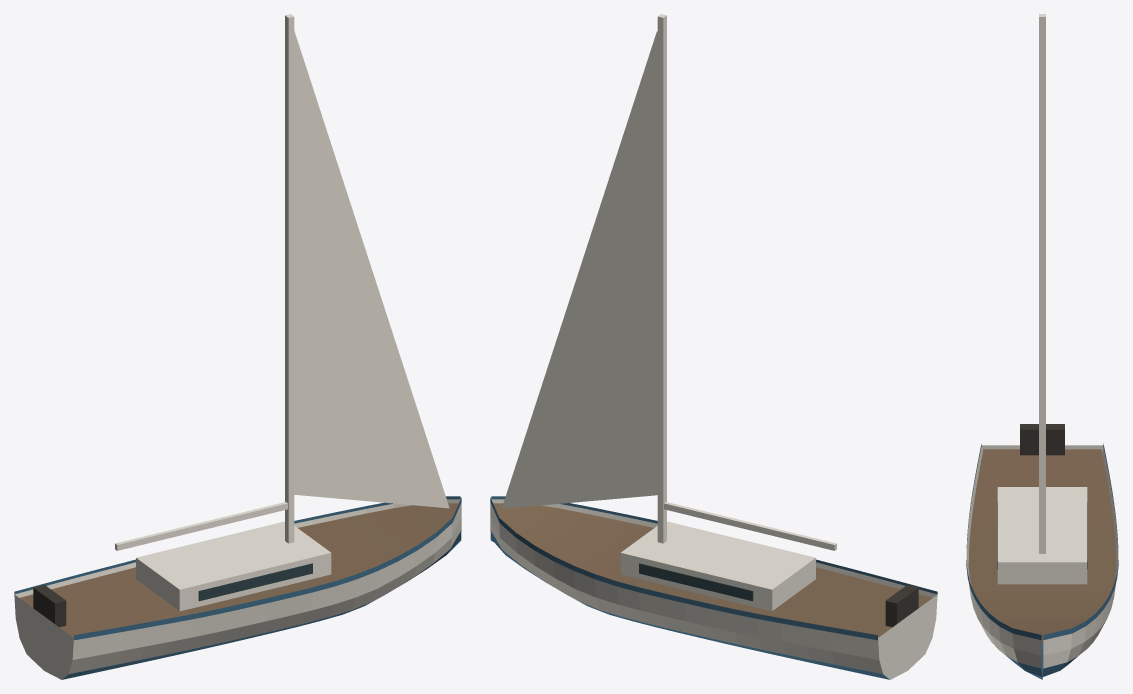
The model's file is yelkenli.glb.
3 views of the same model, side by side, from view 1: azimuth 30°, elevation 25°; view 2: azimuth 150°, elevation 25°; view 3: azimuth 270°, elevation 25° (orthographic). The views are drawn at different scales.
Parts seen in each view (by area): view 1: yelken, tekne_beyaz, ahsap, beyaz, tekne_mavi, cam, demir; view 2: yelken, tekne_beyaz, ahsap, beyaz, tekne_mavi, cam, demir; view 3: ahsap, tekne_beyaz, beyaz, tekne_mavi, demir, yelken.
Boxes of the visible parts, x1=… form: yelken: x1=294, y1=31, x2=449, y2=508; tekne_beyaz: x1=14, y1=499, x2=461, y2=679; ahsap: x1=19, y1=503, x2=458, y2=637; beyaz: x1=115, y1=14, x2=294, y2=550; tekne_mavi: x1=14, y1=496, x2=461, y2=679; cam: x1=198, y1=563, x2=312, y2=601; demir: x1=33, y1=585, x2=66, y2=627; yelken: x1=501, y1=31, x2=657, y2=508; tekne_beyaz: x1=490, y1=499, x2=937, y2=679; ahsap: x1=493, y1=503, x2=932, y2=637; beyaz: x1=657, y1=14, x2=836, y2=550; tekne_mavi: x1=490, y1=496, x2=937, y2=679; cam: x1=639, y1=563, x2=753, y2=601; demir: x1=885, y1=585, x2=918, y2=627; ahsap: x1=968, y1=449, x2=1116, y2=641; tekne_beyaz: x1=966, y1=445, x2=1118, y2=668; beyaz: x1=1039, y1=14, x2=1045, y2=553; tekne_mavi: x1=966, y1=443, x2=1118, y2=679; demir: x1=1020, y1=424, x2=1064, y2=455; yelken: x1=1041, y1=157, x2=1043, y2=511.
Bounding box in the file's own units: 11 × 15 × 3.4.
